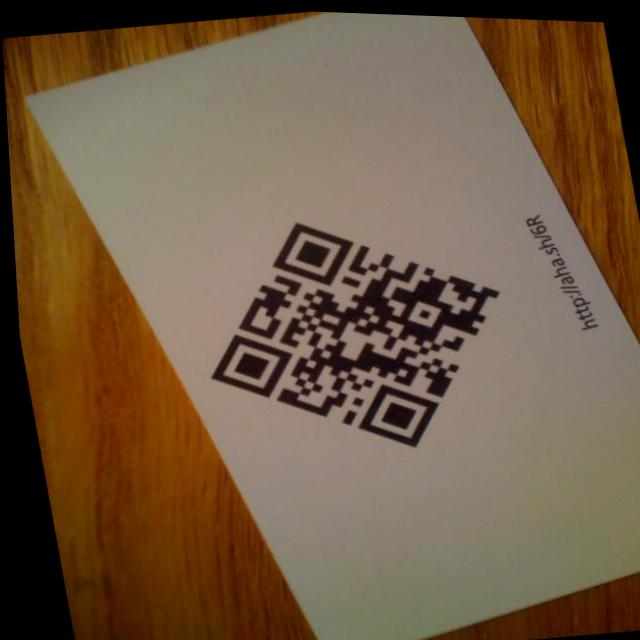qrcode: (181, 193, 523, 470)
